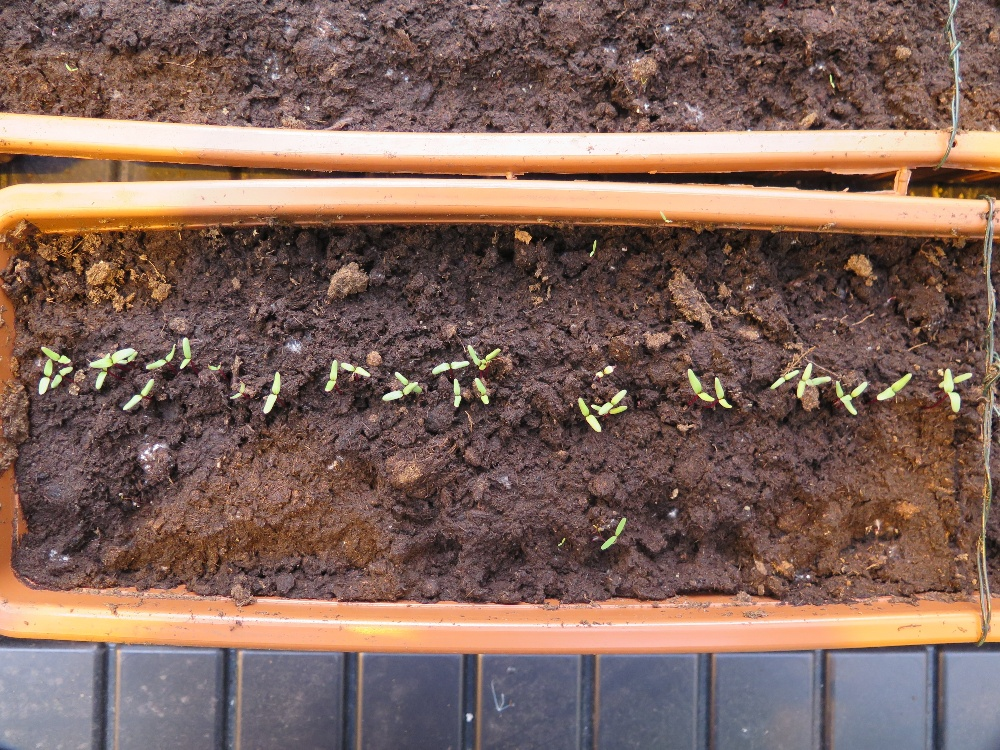crop: (88, 345, 135, 371), (121, 376, 155, 411), (875, 372, 913, 402), (575, 395, 602, 434), (832, 380, 859, 417), (144, 342, 177, 372), (686, 368, 714, 403), (943, 366, 961, 415), (263, 369, 281, 414), (382, 381, 417, 401), (600, 389, 628, 414), (431, 358, 470, 375), (769, 368, 799, 390), (39, 345, 71, 365), (714, 375, 733, 408), (394, 370, 421, 393), (841, 381, 867, 404), (938, 372, 973, 389), (339, 360, 372, 378), (796, 362, 812, 398), (50, 364, 73, 389), (37, 358, 52, 395), (592, 362, 618, 381), (96, 350, 108, 391), (324, 358, 338, 393), (473, 375, 489, 405), (591, 404, 633, 415), (179, 335, 191, 371), (228, 380, 245, 400), (452, 377, 462, 408), (804, 375, 832, 386), (206, 361, 223, 372)
weed: (600, 515, 627, 552), (588, 238, 597, 258), (828, 73, 835, 90), (556, 535, 566, 546)
